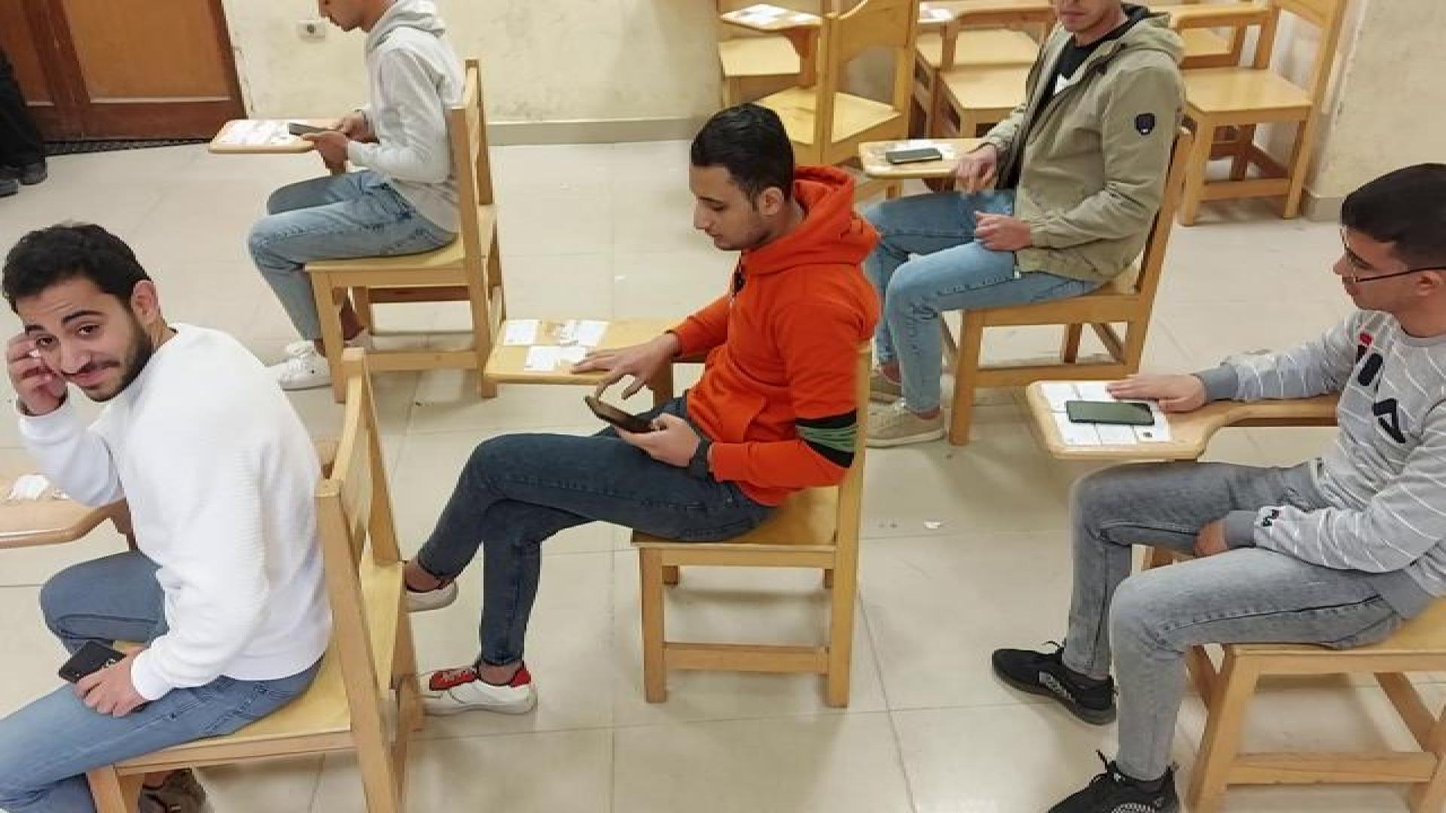phone: (586, 396, 663, 436), (58, 639, 121, 680), (1069, 399, 1155, 423), (880, 145, 939, 169), (287, 123, 328, 142)
